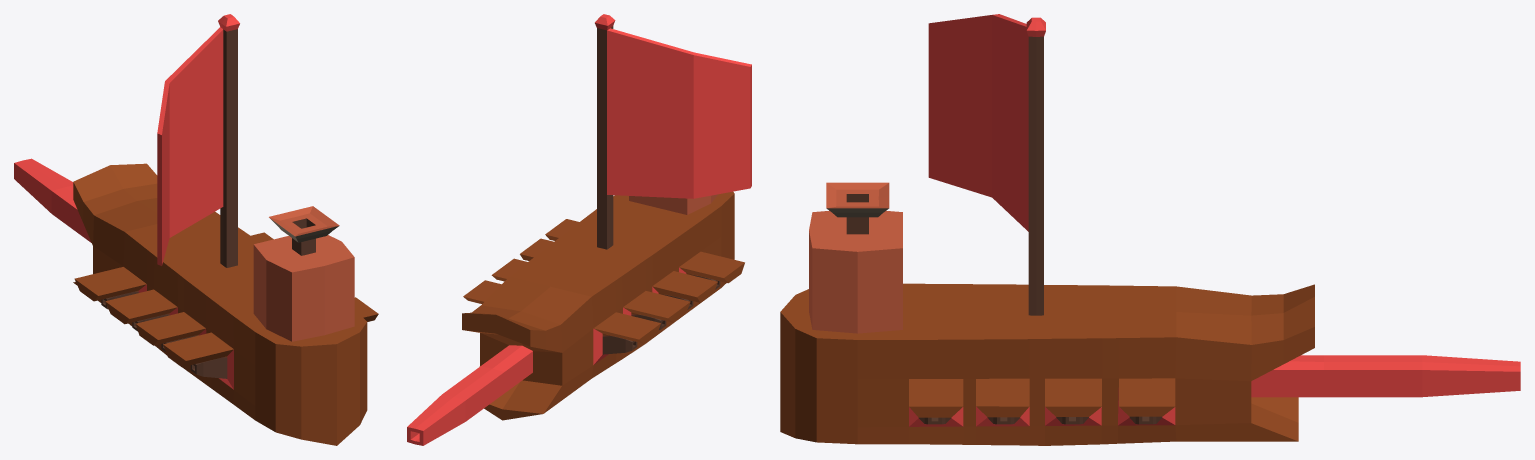
The model's file is portfolioShip.glb.
3 renders of one model, left to right at view 1: azimuth 30°, elevation 25°; view 2: azimuth 150°, elevation 25°; view 3: azimuth 270°, elevation 25°, orthographic. The views are drawn at different scales.
Visible parts, largest first — view 1: Base, Mast; view 2: Base, Mast; view 3: Base, Mast.
Part boxes in pixels (box(x1,y1,x2,y2)): Base: box(14, 158, 378, 445); Mast: box(157, 14, 239, 267); Base: box(407, 191, 744, 445); Mast: box(595, 14, 751, 249); Base: box(780, 182, 1520, 445); Mast: box(928, 14, 1045, 315).
Size of the model in its own units: 1.12 by 1.83 by 2.9.
1 material, 1 textured.
